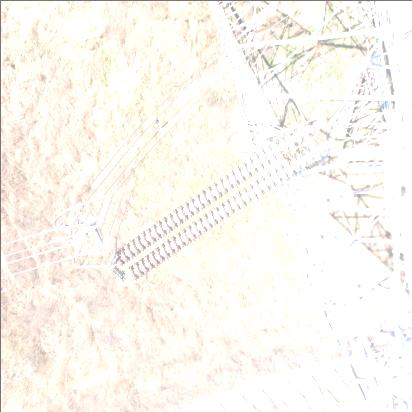insulator: (92, 135, 352, 269)
